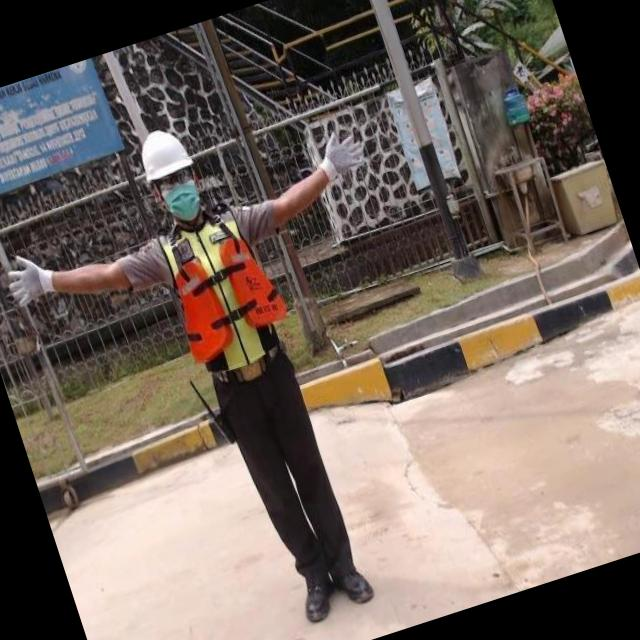hard_hat: (130, 120, 197, 186)
safety_vest: (152, 200, 302, 392)
vehicle: (0, 55, 526, 640)
work_boots: (293, 564, 343, 625), (332, 558, 379, 614)
